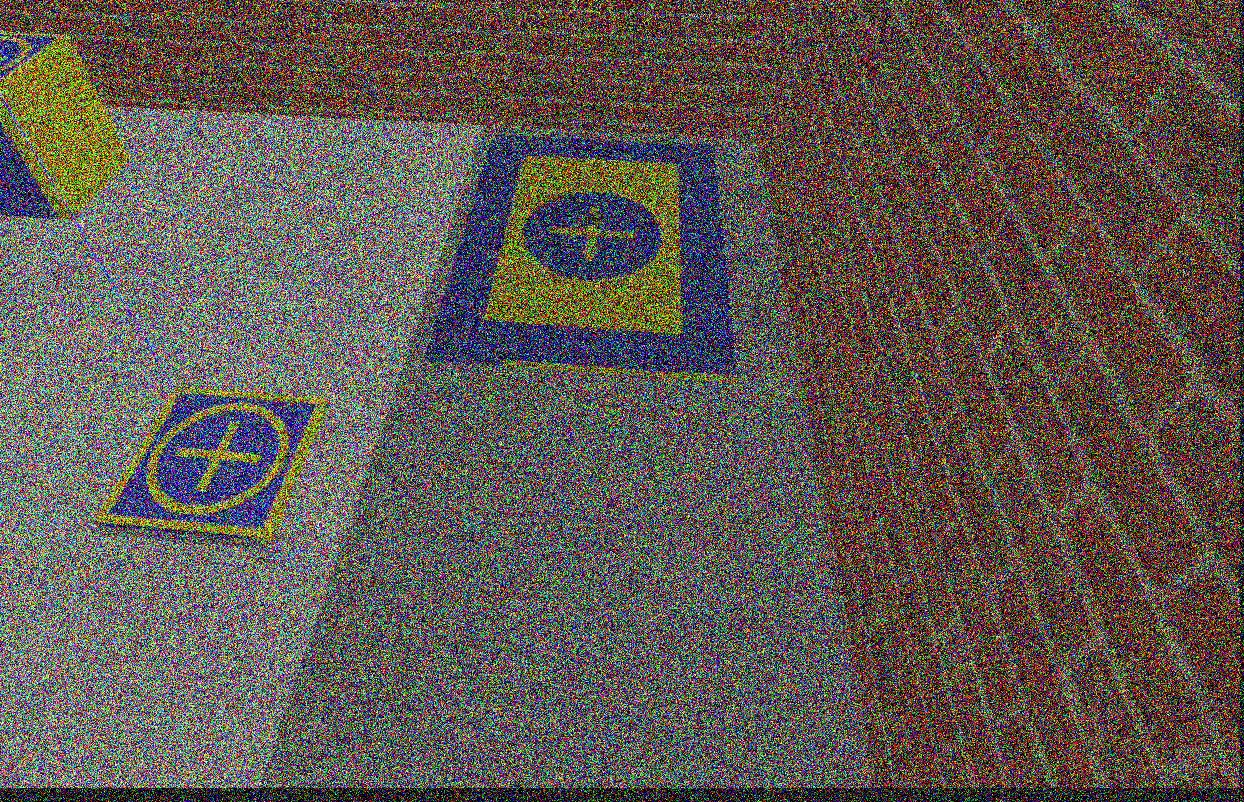large_base: (431, 130, 742, 385)
small_base: (98, 387, 323, 549), (0, 23, 69, 96)
